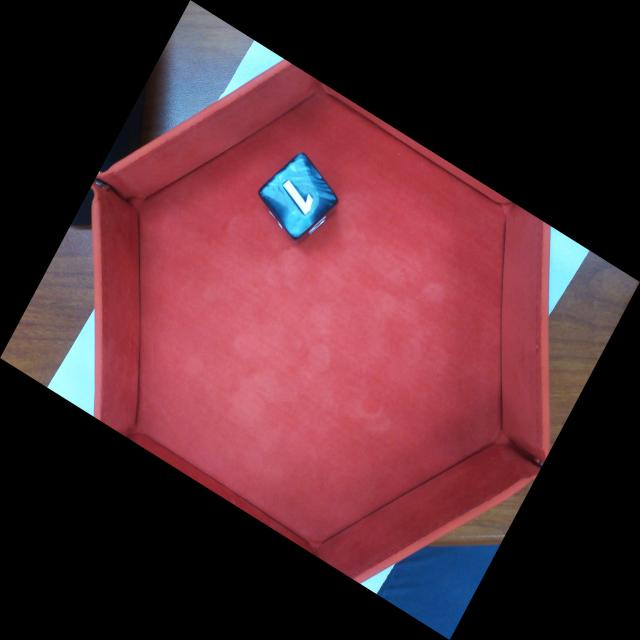dice: (259, 158, 339, 244)
